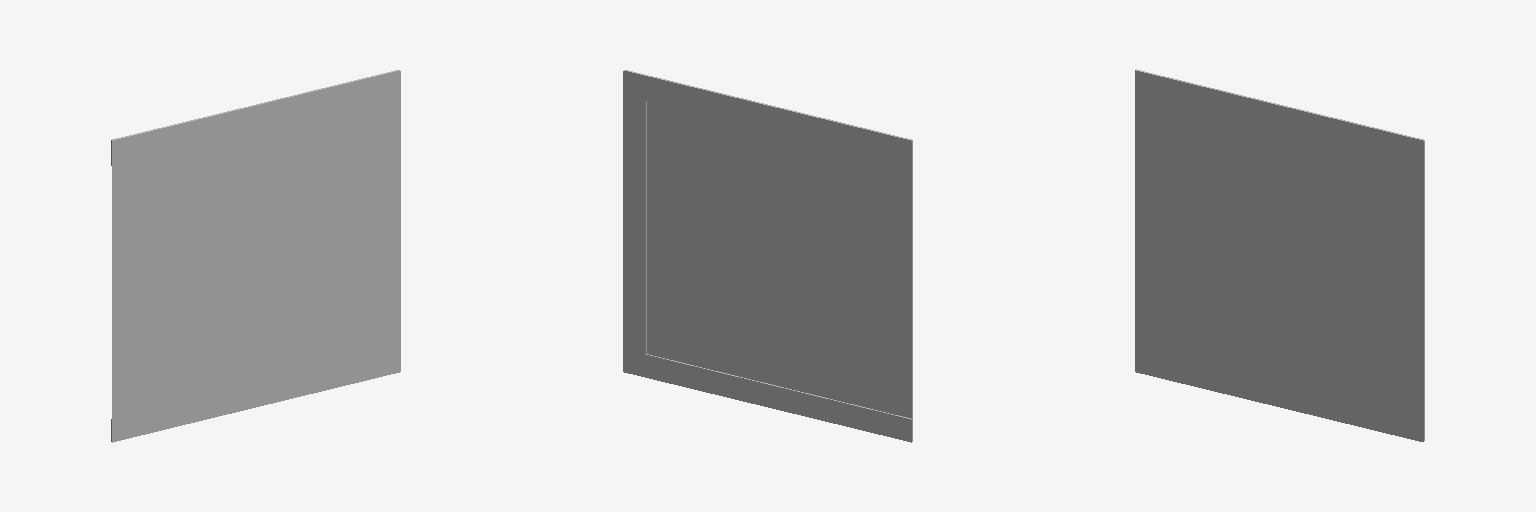
The model's file is blocks-grass-pavement-open.obj.
3 renders of one model, left to right at view 1: azimuth 30°, elevation 25°; view 2: azimuth 150°, elevation 25°; view 3: azimuth 330°, elevation 25°, orthographic.
Visible parts, largest first — view 1: blocks-grass-pavement-open_Plane.119; view 2: blocks-grass-pavement-open_Plane.119; view 3: blocks-grass-pavement-open_Plane.119.
Part boxes in pixels (left/top/right/bottom): blocks-grass-pavement-open_Plane.119: left=111, top=70, right=400, bottom=442; blocks-grass-pavement-open_Plane.119: left=623, top=70, right=912, bottom=442; blocks-grass-pavement-open_Plane.119: left=1135, top=69, right=1424, bottom=441.
Bounding box in the file's own units: 20 × 20 × 0.15.